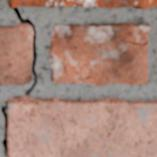brick: (7, 98, 156, 156), (48, 23, 150, 85), (0, 25, 31, 84), (10, 0, 156, 8)
crack: (0, 2, 39, 154), (121, 39, 148, 46)
